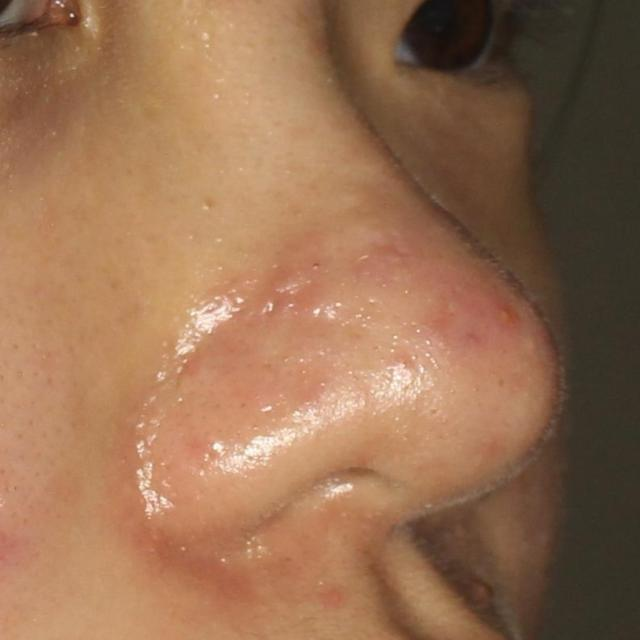blackhead: (264, 302, 276, 315), (202, 202, 212, 210), (312, 263, 320, 271), (287, 302, 294, 308)
